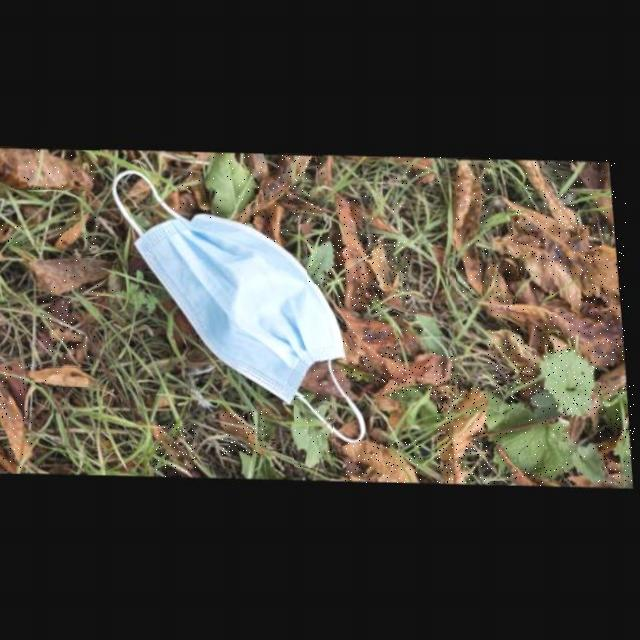biowaste: (509, 196, 626, 310), (489, 302, 629, 365), (489, 390, 577, 480), (493, 231, 585, 311), (438, 387, 495, 483), (243, 154, 322, 223), (339, 195, 382, 308), (456, 158, 490, 297), (491, 328, 551, 401), (0, 147, 100, 190), (343, 307, 427, 358), (526, 159, 586, 230), (596, 382, 635, 483), (545, 348, 600, 416), (212, 152, 264, 219), (382, 352, 458, 396), (346, 440, 421, 483), (36, 257, 115, 295), (0, 381, 35, 460), (344, 330, 397, 381), (295, 397, 333, 467), (578, 160, 621, 221), (376, 241, 411, 311), (154, 424, 196, 477), (172, 170, 216, 218), (516, 277, 578, 311), (223, 410, 267, 455), (42, 297, 76, 353), (571, 442, 611, 484), (0, 360, 28, 418), (307, 360, 348, 396), (308, 237, 339, 284), (391, 156, 443, 184), (60, 211, 97, 250), (358, 200, 401, 233), (31, 367, 101, 387), (55, 329, 95, 364), (261, 200, 292, 243), (490, 261, 520, 303), (515, 467, 564, 486), (0, 442, 21, 474), (256, 153, 278, 181), (0, 223, 24, 242)
